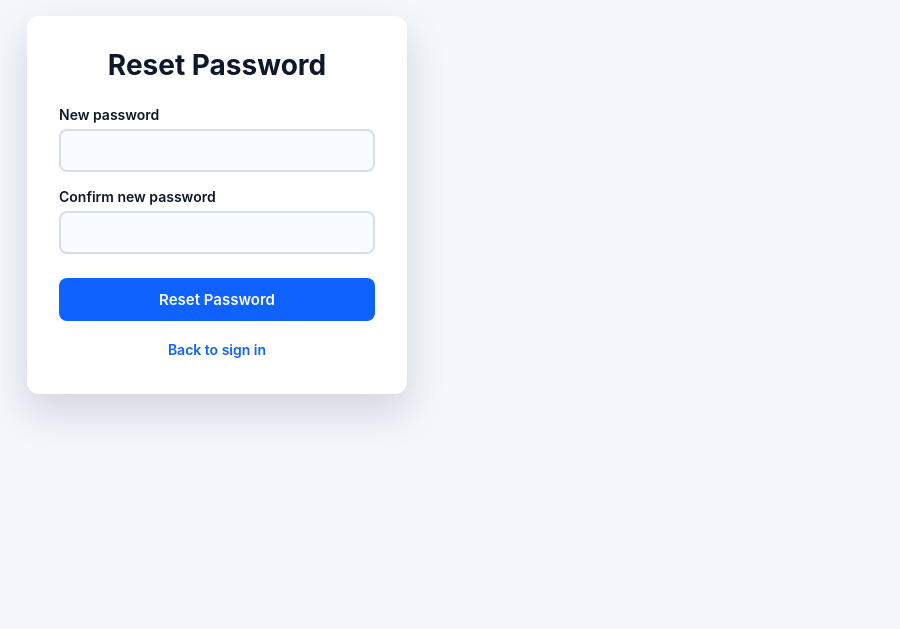
Scenario: ResetPasswordPage › shows the server error when the token is invalid/expired
In the password field labelled "New password": (217, 151) [59,129,375,172], type "newpassword123"
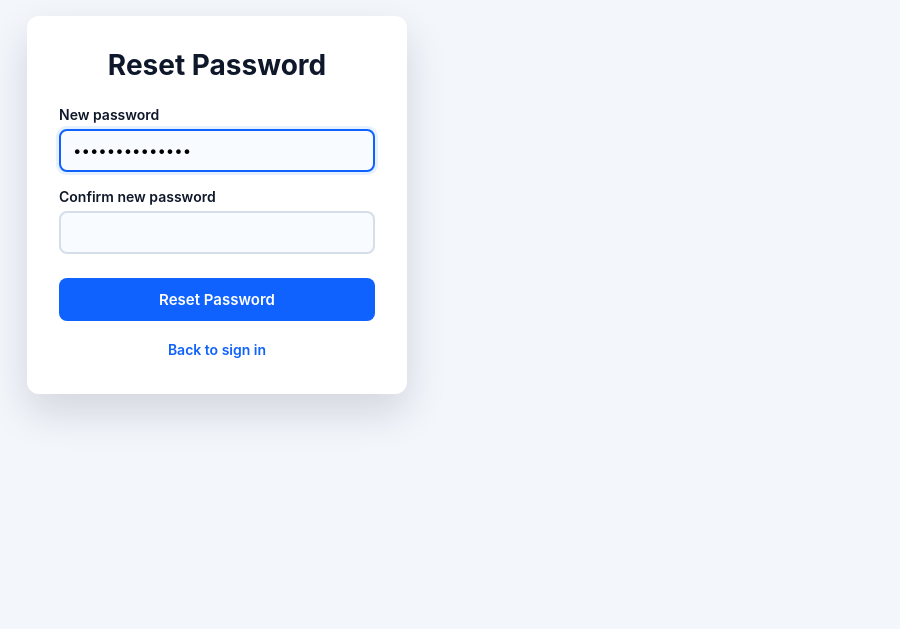
In the password field labelled "Confirm new password": (217, 233) [59,211,375,254], type "newpassword123"
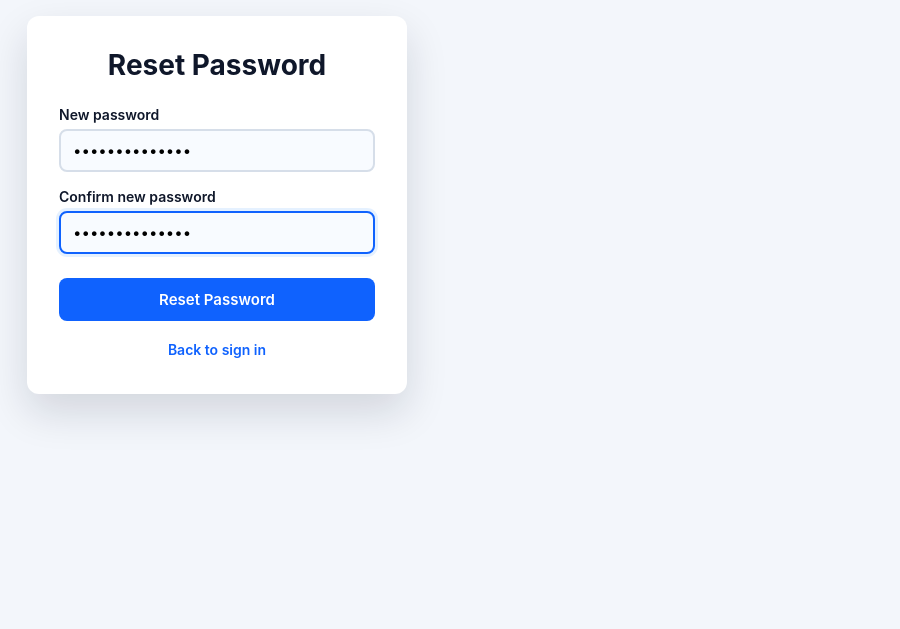
Click the button "Reset Password": (217, 300) [59,278,375,321]
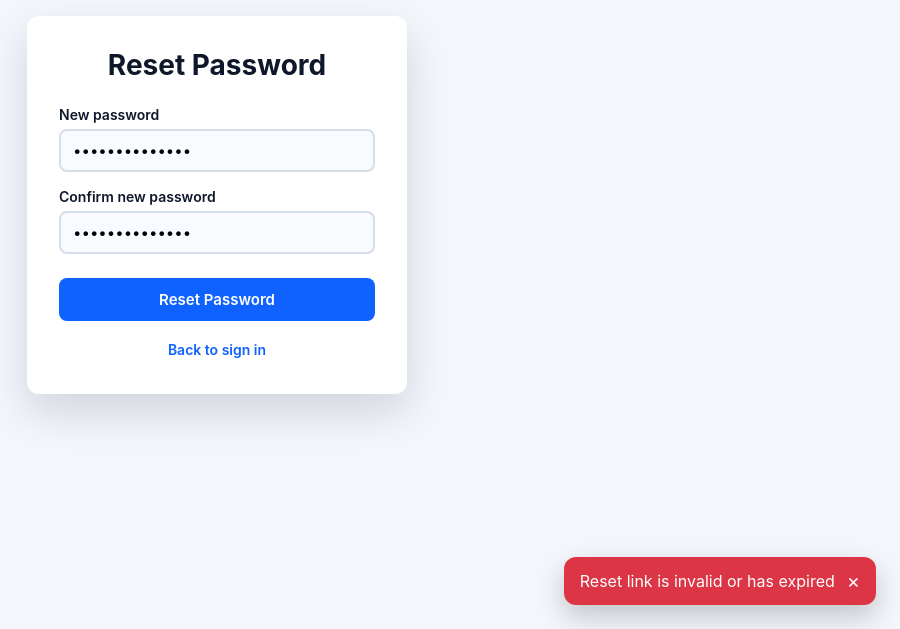
Expected: the text "Reset link is invalid or has expired" is shown, [580,571,835,591]
